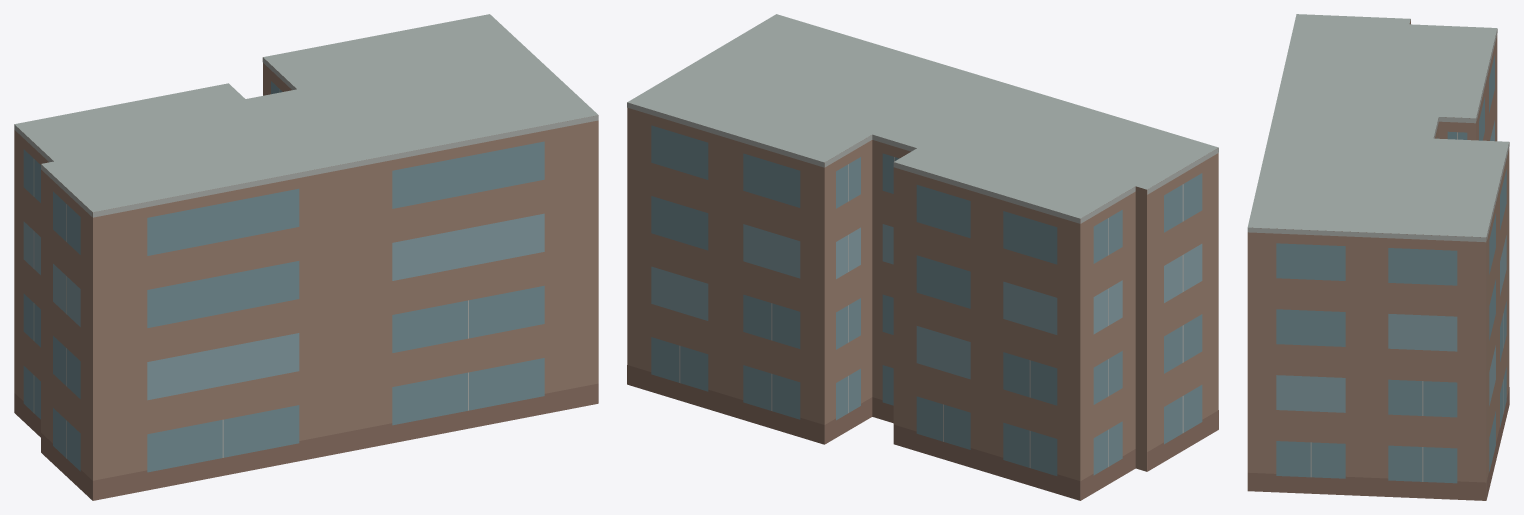
Rendered from survey-upis-33034419.glb.
The picture shows the model from 3 angles, left to right: view 1: azimuth 30°, elevation 25°; view 2: azimuth 150°, elevation 25°; view 3: azimuth 270°, elevation 25°; orthographic projection. The views are drawn at different scales.
Visible parts, largest first — view 1: survey-upis-33034419.tmp; view 2: survey-upis-33034419.tmp; view 3: survey-upis-33034419.tmp.
Part boxes in pixels (x1,y1,x2,y2): survey-upis-33034419.tmp: (14, 14, 598, 500); survey-upis-33034419.tmp: (627, 14, 1218, 500); survey-upis-33034419.tmp: (1247, 14, 1509, 500).
Size of the model in its own units: 24 by 13.2 by 11.89.
